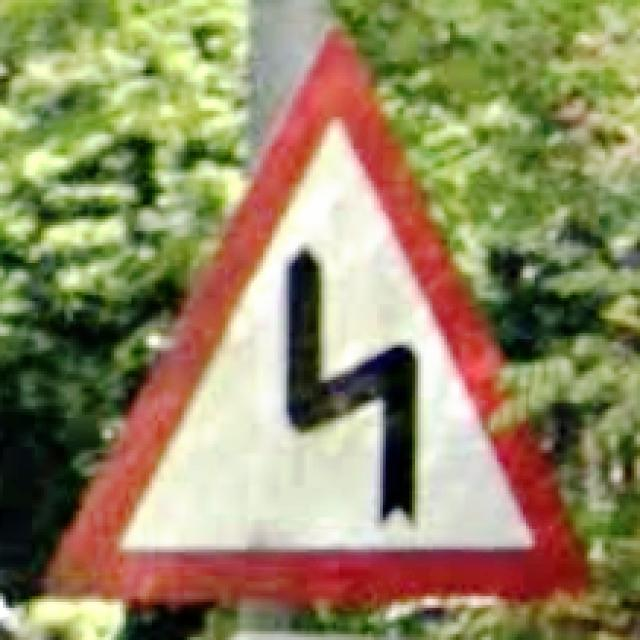doublebendleft: (53, 29, 587, 602)
